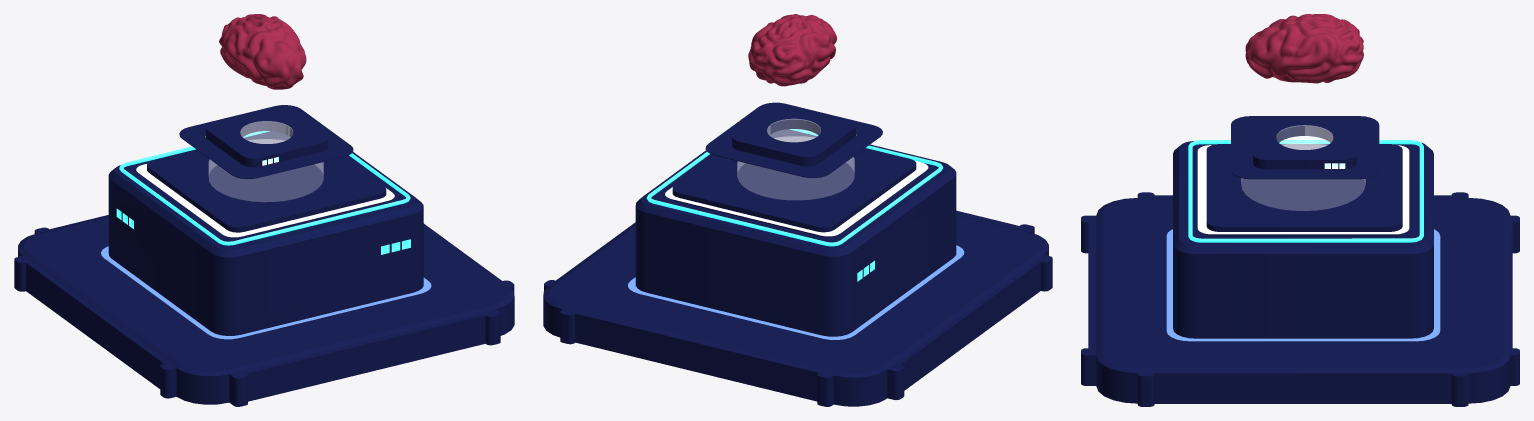
The model's file is The_mystery_cityblend41.glb.
3 renders of one model, left to right at view 1: azimuth 30°, elevation 25°; view 2: azimuth 150°, elevation 25°; view 3: azimuth 270°, elevation 25°, orthographic. The views are drawn at different scales.
Parts seen in each view (by area): view 1: Main_platform.001, Main_platform, Main_platform.005, Cube.001, Cube.003, Brain, Plane.004, Suppourt, Main_platform.002, Plane.002, Main_platform.007, Main_platform.008 (+1 smaller); view 2: Main_platform.001, Main_platform, Main_platform.005, Cube.002, Cube.003, Brain, Plane.004, Suppourt, Main_platform.002, Plane.002, Main_platform.008, Main_platform.007 (+1 smaller); view 3: Main_platform, Main_platform.001, Main_platform.005, Cube.004, Brain, Plane.004, Suppourt, Main_platform.002, Plane.002, Main_platform.008, Main_platform.007, Cube.001 (+2 smaller).
Part boxes in pixels (left/top/right/bottom): Main_platform.001: left=108, top=131, right=423, bottom=335; Main_platform: left=18, top=216, right=514, bottom=404; Main_platform.005: left=147, top=131, right=386, bottom=237; Cube.001: left=229, top=309, right=500, bottom=406; Cube.003: left=14, top=256, right=176, bottom=398; Brain: left=219, top=14, right=306, bottom=89; Plane.004: left=206, top=107, right=327, bottom=167; Suppourt: left=179, top=105, right=353, bottom=179; Main_platform.002: left=209, top=139, right=323, bottom=201; Plane.002: left=119, top=131, right=410, bottom=245; Main_platform.007: left=136, top=164, right=394, bottom=237; Main_platform.008: left=101, top=246, right=431, bottom=339; Main_platform.001: left=635, top=144, right=956, bottom=336; Main_platform: left=543, top=214, right=1048, bottom=406; Main_platform.005: left=672, top=129, right=916, bottom=236; Cube.002: left=560, top=309, right=833, bottom=406; Cube.003: left=887, top=255, right=1052, bottom=399; Brain: left=748, top=14, right=837, bottom=86; Plane.004: left=732, top=104, right=855, bottom=166; Suppourt: left=705, top=102, right=882, bottom=177; Main_platform.002: left=737, top=136, right=854, bottom=199; Plane.002: left=646, top=129, right=943, bottom=246; Main_platform.008: left=628, top=245, right=964, bottom=339; Main_platform.007: left=665, top=161, right=928, bottom=236; Main_platform: left=1096, top=198, right=1510, bottom=403; Main_platform.001: left=1173, top=141, right=1433, bottom=338; Main_platform.005: left=1206, top=144, right=1402, bottom=236; Cube.004: left=1137, top=373, right=1468, bottom=406; Brain: left=1245, top=14, right=1363, bottom=83; Plane.004: left=1253, top=116, right=1356, bottom=169; Suppourt: left=1231, top=116, right=1379, bottom=179; Main_platform.002: left=1241, top=143, right=1365, bottom=210; Plane.002: left=1188, top=140, right=1423, bottom=242; Main_platform.008: left=1166, top=229, right=1440, bottom=341; Main_platform.007: left=1197, top=145, right=1409, bottom=234; Cube.001: left=1081, top=215, right=1096, bottom=385.
Bounding box in the file's own units: 8.3 × 6.3 × 8.37.
